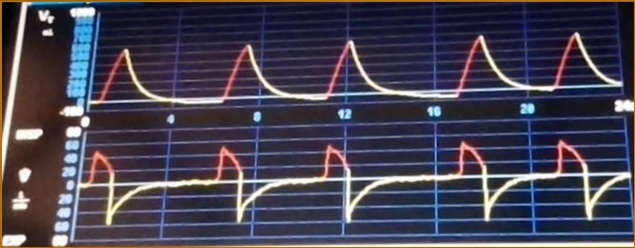Normal Flow: (83, 135, 630, 239)
Normal Volume: (94, 26, 623, 105)
